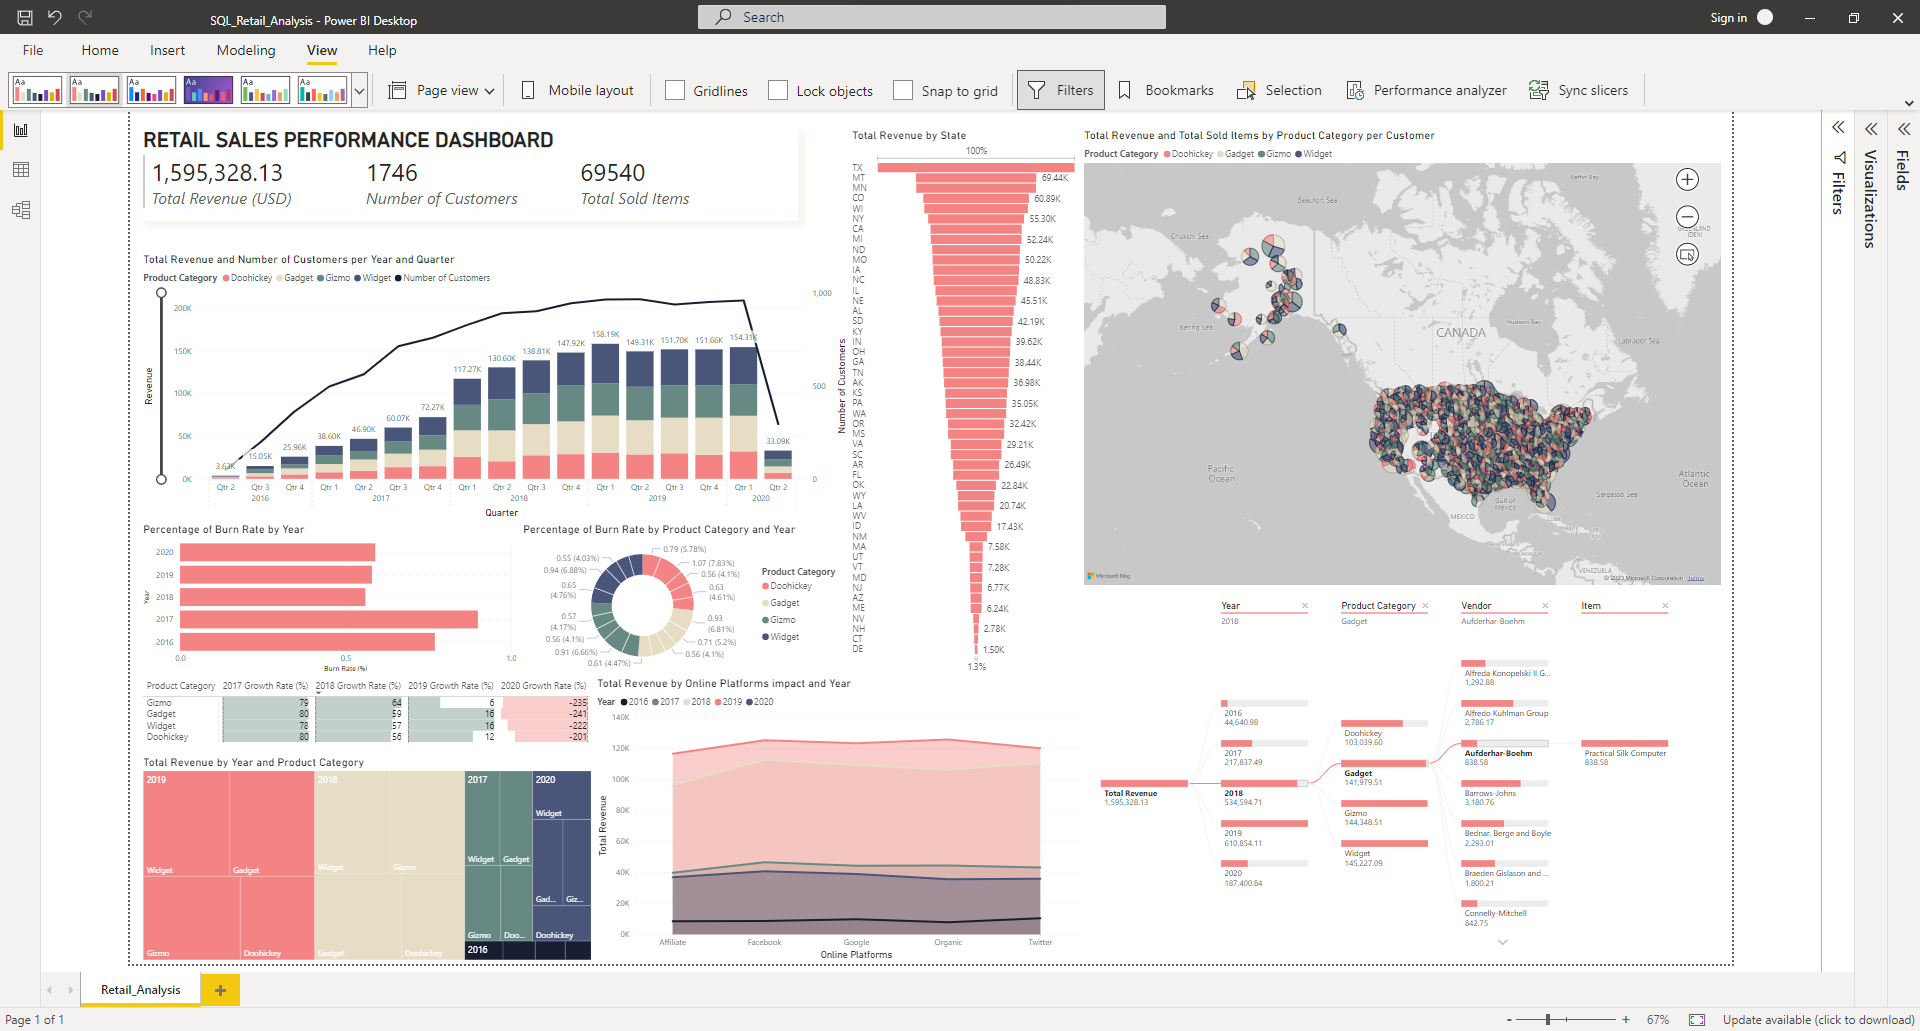

What the dashboard file says about the page in this screenshot:
{"tool":"powerbi","page":{"name":"Retail_Analysis","canvas":[2400,1280],"ordinal":0},"visuals":[{"type":"lineStackedColumnComboChart","title":"Total Revenue and Number of Customers per Year and Quarter","fields":{"Category":["orders.created_at.Variation.Date Hierarchy.Year","orders.created_at.Variation.Date Hierarchy.Quarter"],"Y2":["orders.user_id"],"Series":["orders.products.category"],"Y":["orders.total"]},"box":[14.6,213.5,1062.5,404.3],"z":0},{"type":"decompositionTreeVisual","fields":{"Analyze":["orders.total"],"ExplainBy":["orders.created_at.Variation.Date Hierarchy.Year","orders.products.category","orders.products.vendor","orders.products.title"]},"box":[1424.8,718.1,963.9,561.2],"z":1000},{"type":"barChart","title":"Percentage of Burn Rate by Year","fields":{"Category":["data-burn-rates.years"],"Y":["data-burn-rates.burn_rate_(%)"]},"box":[14.6,617.8,569.3,231.3],"z":2000},{"type":"donutChart","fields":{"Category":["data-burn-rates-by-category-and-year.category"],"Y":["data-burn-rates-by-category-and-year.burn_rate_(%)"],"Series":["data-burn-rates-by-category-and-year.years"]},"box":[583.8,617.8,493.3,231.3],"z":3000},{"type":"map","title":"Total Revenue and Total Sold Items by Product Category per Customer","fields":{"Series":["orders.products.category"],"Y":["orders.users.latitude"],"X":["orders.users.longitude"],"Size":["orders.total"]},"box":[1424.8,27.5,963.9,690.6],"z":4000},{"type":"funnel","fields":{"Category":["orders.users.state"],"Y":["orders.total"]},"box":[1077.1,27.5,347.7,821.6],"z":5000},{"type":"multiRowCard","title":"RETAIL SALES PERFORMANCE DASHBOARD","fields":{"Values":["orders.total","orders.user_id","orders.quantity"]},"box":[14.6,27.5,986.5,139.1],"z":6000},{"type":"pivotTable","fields":{"Rows":["data-growth-rates.category"],"Values":["data-growth-rates.2017_growth_sales_(%)","data-growth-rates.2018_growth_sales_(%)","data-growth-rates.2019_growth_sales_(%)","data-growth-rates.2020_growth_sales_(%)"]},"box":[14.6,849.1,680.9,118.1],"z":7000},{"type":"treemap","fields":{"Group":["orders.created_at.Variation.Date Hierarchy.Year"],"Values":["orders.total"],"Details":["orders.products.category"]},"box":[14.6,967.1,680.9,312.1],"z":8000},{"type":"areaChart","title":"Total Revenue by Online Platforms impact and Year","fields":{"Category":["orders.users.source"],"Y":["orders.total"],"Series":["orders.created_at.Variation.Date Hierarchy.Year"]},"box":[695.4,849.1,729.4,430.2],"z":9000}]}

Visuals, with their boxes on the page's 2400x1280 design canvas (x1, y1, x2, y2). These are canvas units, not pixel positions in the 1920x1031 screenshot, which may show the page scaled, cropped or inside an application window:
"Total Revenue and Number of Customers per Year and Quarter" lineStackedColumnComboChart: 15/214/1077/618
decompositionTreeVisual - orders.total x orders.created_at.Variation.Date Hierarchy.Year: 1425/718/2389/1279
"Percentage of Burn Rate by Year" barChart: 15/618/584/849
donutChart - data-burn-rates-by-category-and-year.category x data-burn-rates-by-category-and-year.burn_rate_(%): 584/618/1077/849
"Total Revenue and Total Sold Items by Product Category per Customer" map: 1425/28/2389/718
funnel - orders.users.state x orders.total: 1077/28/1425/849
"RETAIL SALES PERFORMANCE DASHBOARD" multiRowCard: 15/28/1001/167
pivotTable - data-growth-rates.category x data-growth-rates.2017_growth_sales_(%): 15/849/696/967
treemap - orders.created_at.Variation.Date Hierarchy.Year x orders.total: 15/967/696/1279
"Total Revenue by Online Platforms impact and Year" areaChart: 695/849/1425/1279
